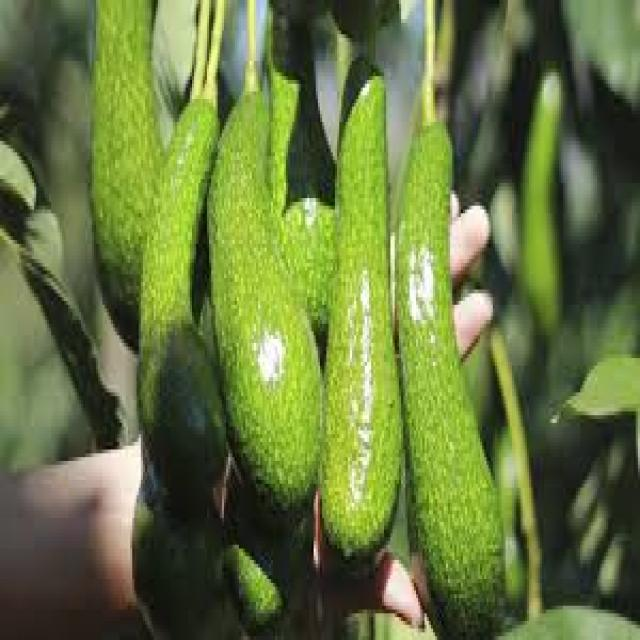Bo: (391, 7, 517, 636), (202, 21, 324, 533), (314, 35, 405, 586), (135, 28, 232, 525)
